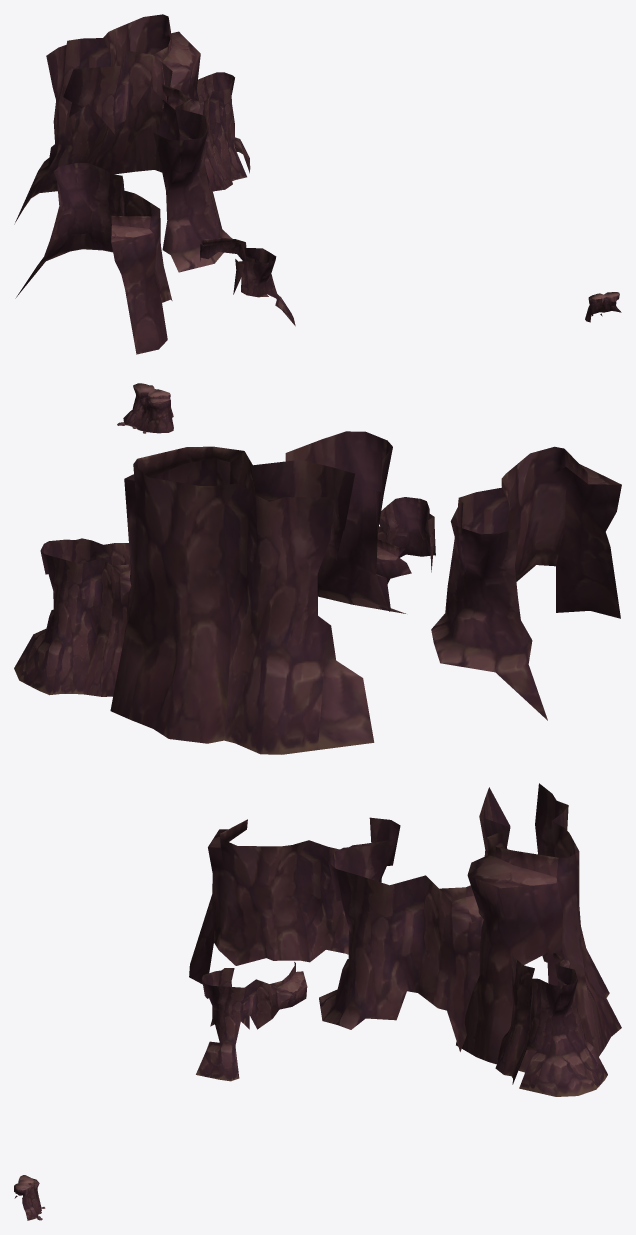
Rendered from area16_shiqiang_03.FBX.
3 views of the same model, one above another, from view 1: azimuth 30°, elevation 25°; view 2: azimuth 150°, elevation 25°; view 3: azimuth 270°, elevation 25° (orthographic). The views are drawn at different scales.
Visible parts, largest first — view 1: area16_shiqiang_03; view 2: area16_shiqiang_03; view 3: area16_shiqiang_03.
Boxes of the visible parts, <box> form: area16_shiqiang_03: <box>14,14,621,354</box>; area16_shiqiang_03: <box>14,383,621,754</box>; area16_shiqiang_03: <box>14,783,621,1220</box>.
Bounding box in the file's own units: 12057 × 4920 × 11702.
